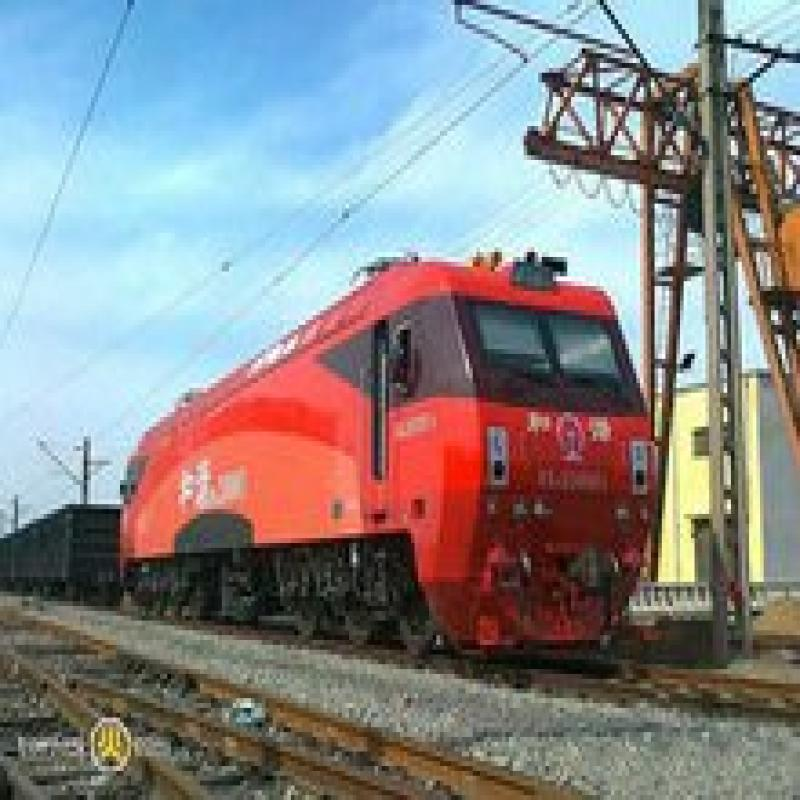train: (114, 234, 666, 665)
